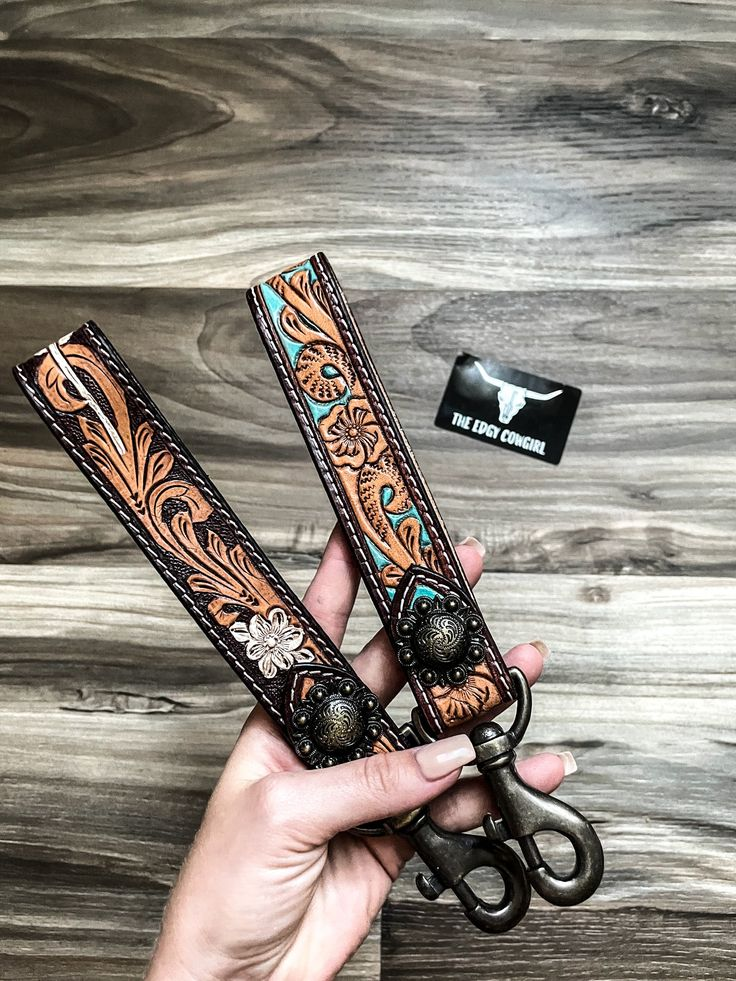cuero: (18, 250, 516, 831)
